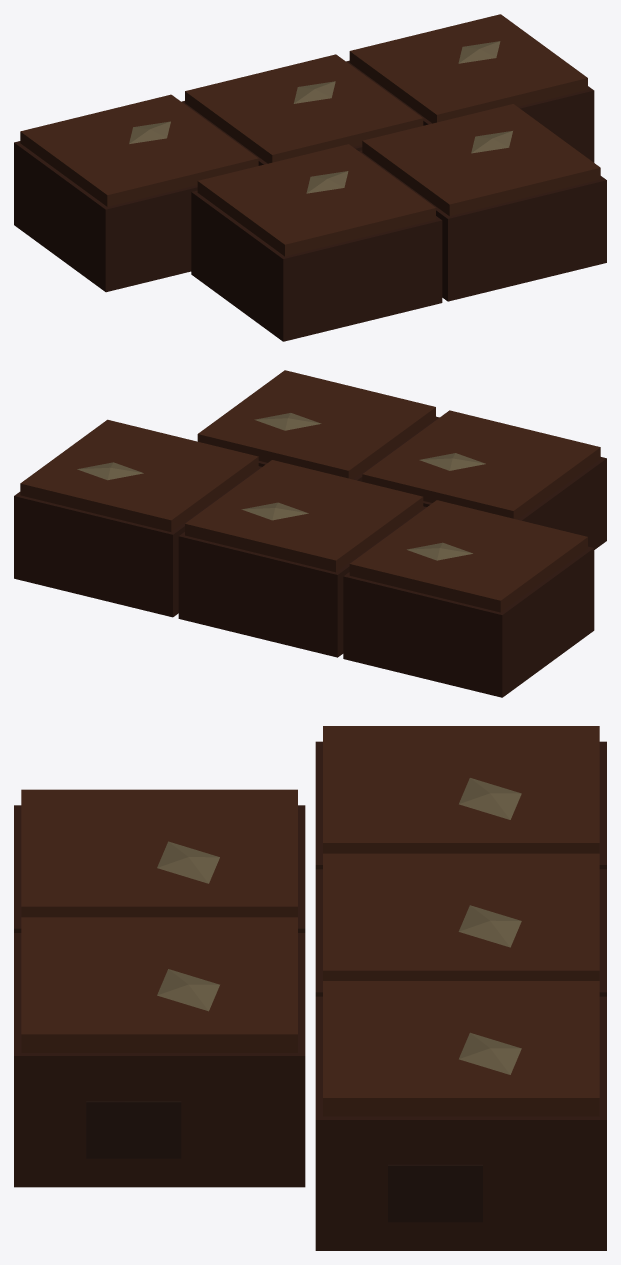
Rendered from pile-mud-5.obj.
The picture shows the model from 3 angles, top to bottom: view 1: azimuth 30°, elevation 25°; view 2: azimuth 150°, elevation 25°; view 3: azimuth 270°, elevation 25°; orthographic projection. The views are drawn at different scales.
Visible parts, largest first — view 1: pile-mud-5; view 2: pile-mud-5; view 3: pile-mud-5.
Boxes of the visible parts, x1=… form: pile-mud-5: x1=14, y1=14, x2=606, y2=341; pile-mud-5: x1=14, y1=370, x2=606, y2=697; pile-mud-5: x1=14, y1=726, x2=606, y2=1250.
Bounding box in the file's own units: 0.869 × 0.167 × 0.574.
1 material, 1 textured.
